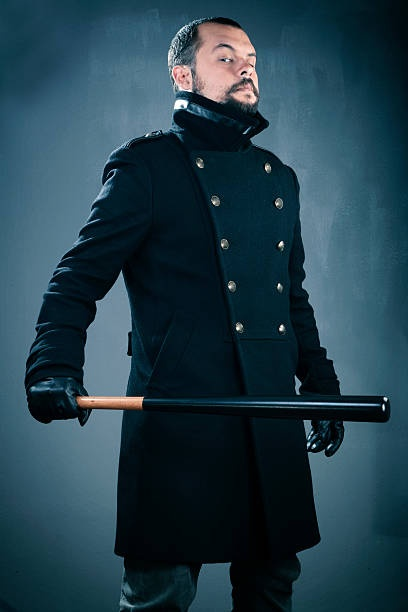bita: (75, 392, 387, 422)
